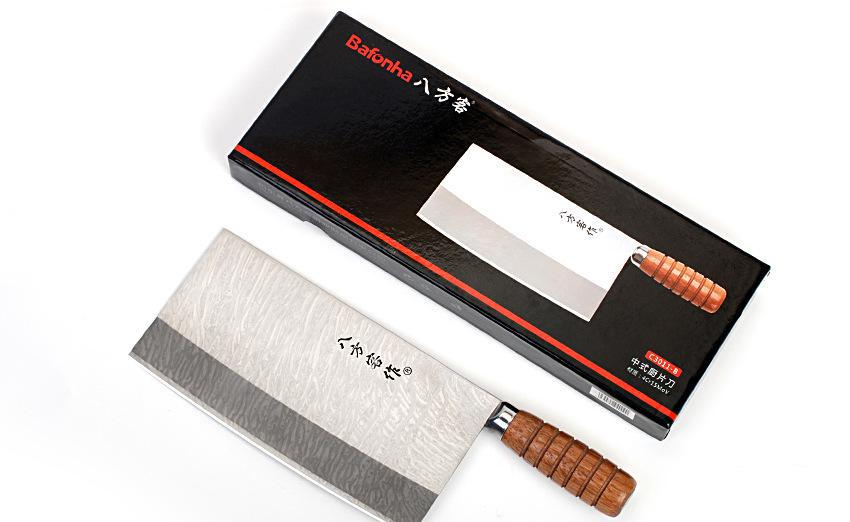knief: (115, 242, 646, 514)
